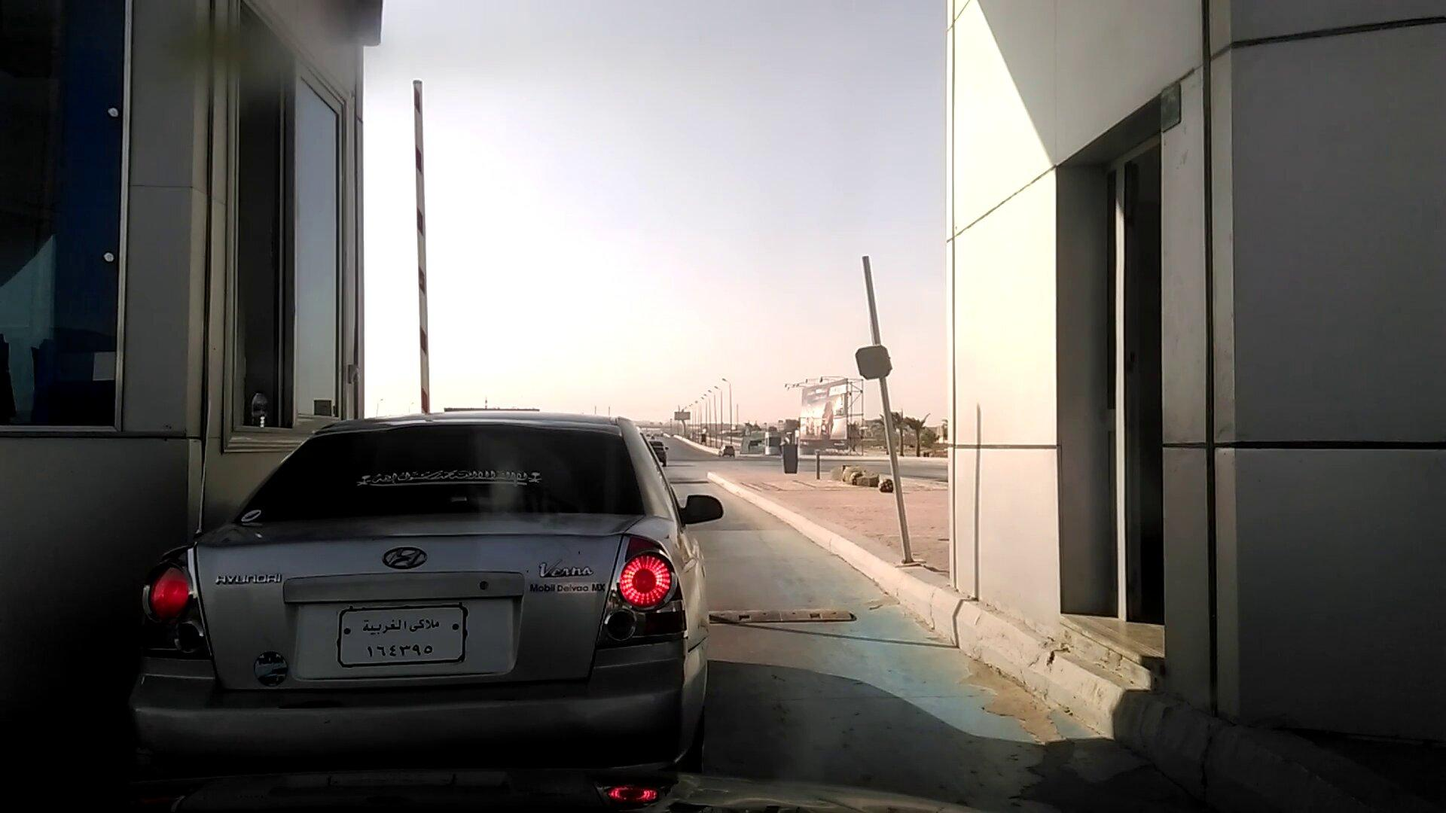Bump: (703, 598, 860, 623)
